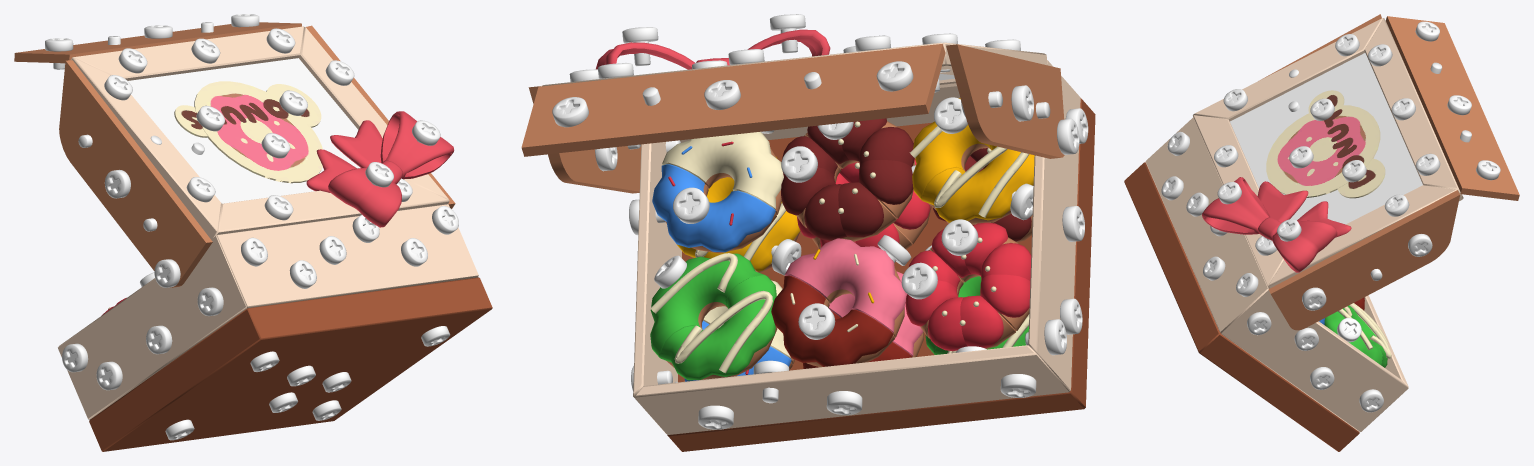
File: DonutsBox_GroupE.fbx
3 views of the same model, side by side, from view 1: azimuth 30°, elevation 25°; view 2: azimuth 150°, elevation 25°; view 3: azimuth 270°, elevation 25° (orthographic). The views are drawn at different scales.
Visible parts, largest first — view 1: DonutsBox.024, DonutsBox.025, Screw (×24), DonutsBox.044, DonutsBox.027, DonutsBox.020, DonutsBox.045, DonutsBox.016, DonutsBox.023, DonutsBox.021, DonutsBox.019, DonutsBox.046 (+2 smaller); view 2: DonutsBox.046, Screw (×23), DonutsBox.026, DonutsBox.024, DonutsBox.027, DonutsBox.044, DonutsBox.035, DonutsBox.038, DonutsBox.017, DonutsBox.036, DonutsBox.039, DonutsBox.033 (+23 smaller); view 3: Screw (×27), DonutsBox.024, DonutsBox.020, DonutsBox.018, DonutsBox.046, DonutsBox.017, DonutsBox.025, DonutsBox.045, DonutsBox.016, DonutsBox.023, DonutsBox.021, DonutsBox.022 (+4 smaller).
Part boxes in pixels (bbox=[...]): DonutsBox.024: bbox=[89, 277, 492, 451]; DonutsBox.025: bbox=[216, 204, 478, 308]; Screw (×24): bbox=[62, 28, 458, 390]; DonutsBox.044: bbox=[59, 60, 212, 287]; DonutsBox.027: bbox=[58, 235, 246, 418]; DonutsBox.020: bbox=[128, 58, 360, 203]; DonutsBox.045: bbox=[174, 81, 322, 183]; DonutsBox.016: bbox=[306, 111, 454, 227]; DonutsBox.023: bbox=[71, 26, 304, 80]; DonutsBox.021: bbox=[71, 58, 221, 239]; DonutsBox.019: bbox=[215, 179, 449, 235]; DonutsBox.046: bbox=[14, 22, 301, 63]; DonutsBox.046: bbox=[521, 44, 945, 156]; Screw (×23): bbox=[552, 14, 1084, 429]; DonutsBox.026: bbox=[634, 345, 1069, 434]; DonutsBox.024: bbox=[667, 98, 1095, 451]; DonutsBox.027: bbox=[1028, 60, 1080, 390]; DonutsBox.044: bbox=[946, 44, 1064, 158]; DonutsBox.035: bbox=[659, 275, 777, 380]; DonutsBox.038: bbox=[785, 238, 906, 337]; DonutsBox.017: bbox=[633, 142, 681, 433]; DonutsBox.036: bbox=[652, 164, 776, 253]; DonutsBox.039: bbox=[771, 275, 894, 367]; DonutsBox.033: bbox=[921, 145, 1034, 224]; Screw (×27): bbox=[1161, 21, 1500, 412]; DonutsBox.024: bbox=[1124, 162, 1359, 451]; DonutsBox.020: bbox=[1230, 53, 1422, 224]; DonutsBox.018: bbox=[1268, 190, 1460, 330]; DonutsBox.046: bbox=[1386, 16, 1519, 200]; DonutsBox.017: bbox=[1221, 289, 1408, 431]; DonutsBox.025: bbox=[1145, 117, 1268, 332]; DonutsBox.045: bbox=[1266, 90, 1385, 198]; DonutsBox.016: bbox=[1202, 177, 1351, 272]; DonutsBox.023: bbox=[1364, 18, 1463, 198]; DonutsBox.021: bbox=[1193, 18, 1383, 121]; DonutsBox.022: bbox=[1268, 185, 1462, 288].
Size of the model in its own units: 9.83 by 10 by 10.57.
4 materials, 2 textured.
